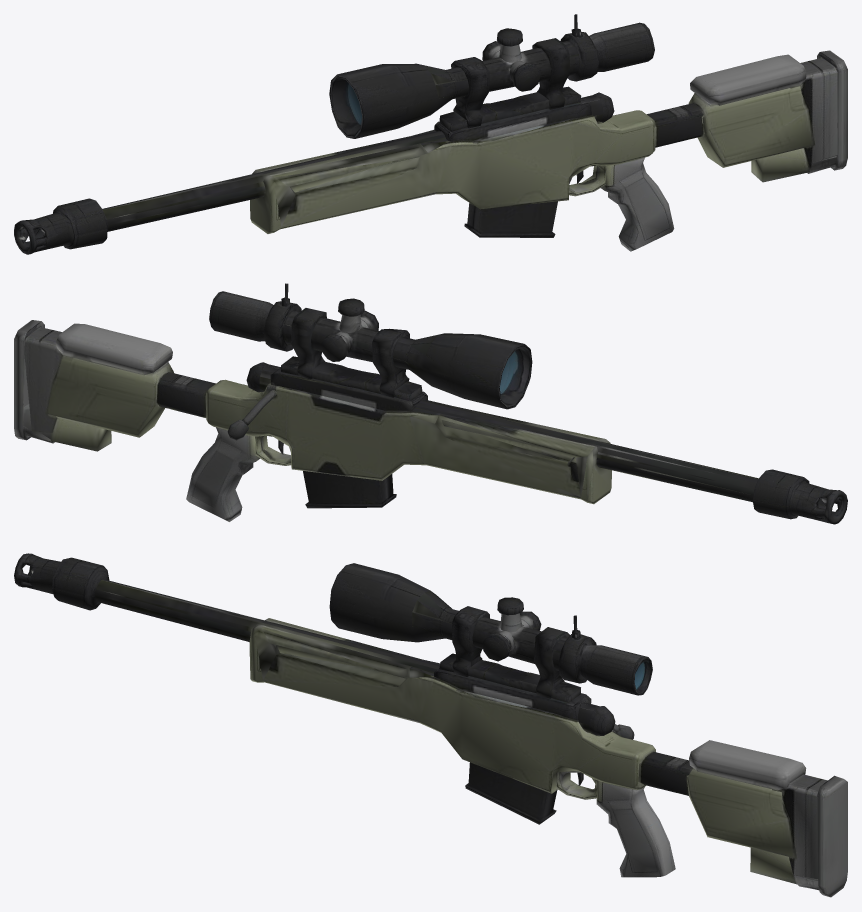
File: sniper-DaY6OOU0.glb
The picture shows the model from 3 angles, top to bottom: view 1: azimuth 30°, elevation 25°; view 2: azimuth 150°, elevation 25°; view 3: azimuth 330°, elevation 25°; orthographic projection.
Size of the model in its own units: 1 by 0.2895 by 0.1042.
1 material, 1 textured.
